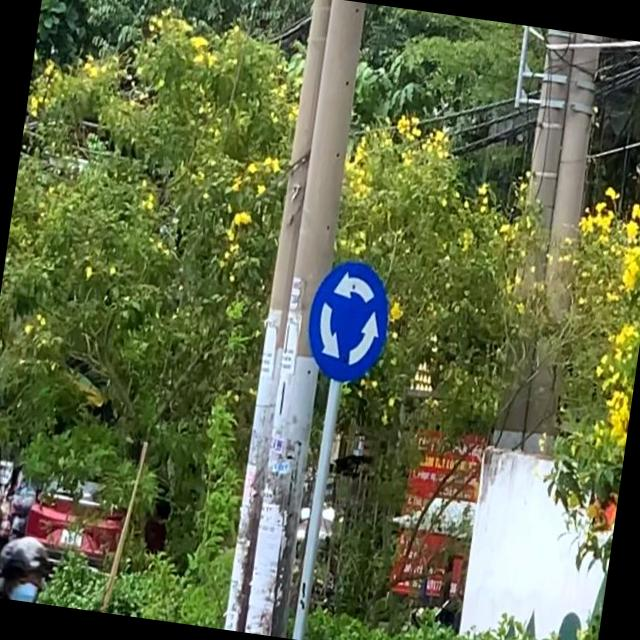R-303: (300, 252, 394, 386)
